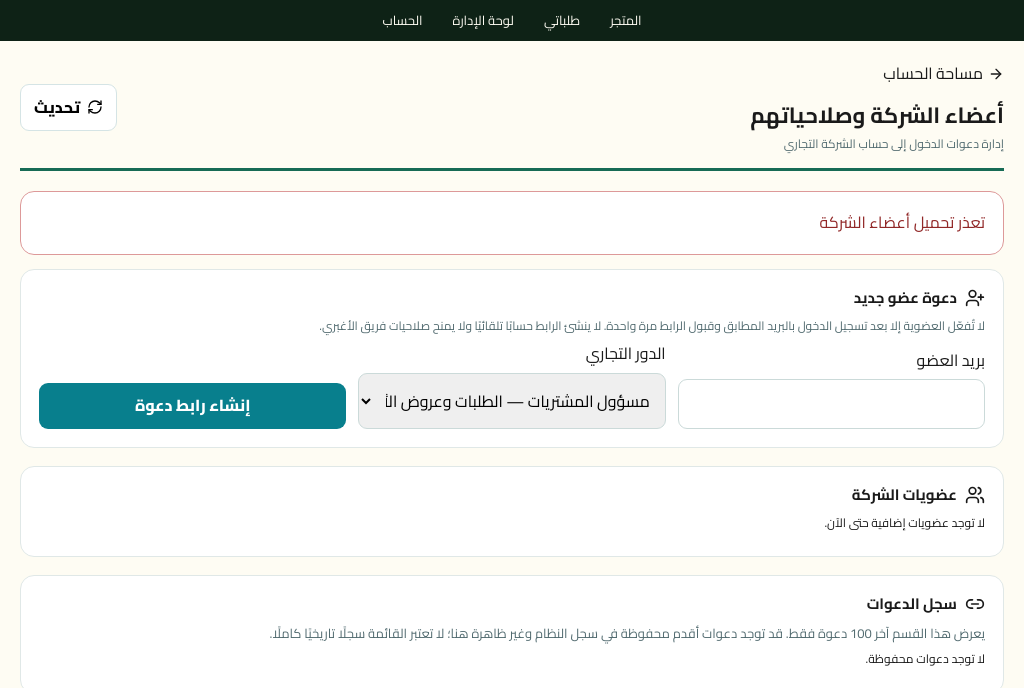
Scenario: customer company members real route acceptance › shows a failed workspace read and unlocks invitation creation only after retry succeeds
The image size is (1024, 688).
Expected: the message "تعذر تحميل أعضاء الشركة" is shown, x1=20 y1=191 x2=1004 y2=255
Expected: the button "إنشاء رابط دعوة" is disabled, x1=39 y1=383 x2=346 y2=429
What coordinates should you click on to do the following:
click the button "تحديث"
I would click on:
 (69, 108)
Its box is x1=20 y1=84 x2=117 y2=131.
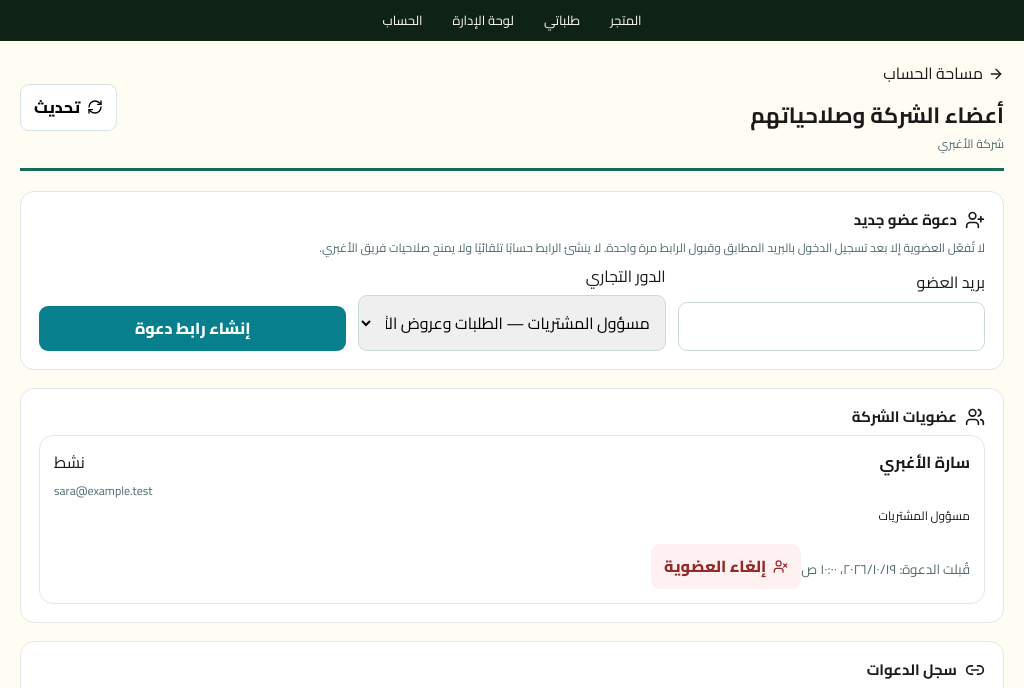
Result: the message "تعذر تحميل أعضاء الشركة" is gone
Result: the text "سارة الأغبري" is shown at x1=880 y1=450 x2=970 y2=476
Result: the button "إنشاء رابط دعوة" is enabled at x1=39 y1=306 x2=346 y2=351
